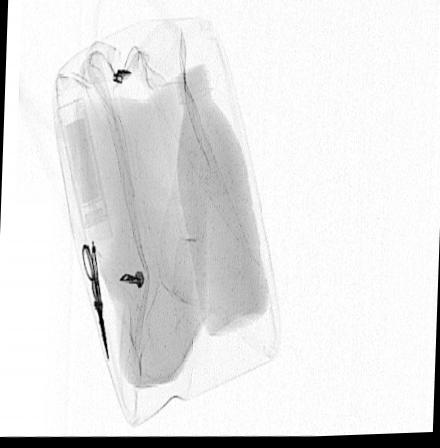Scissors: (79, 237, 109, 359)
